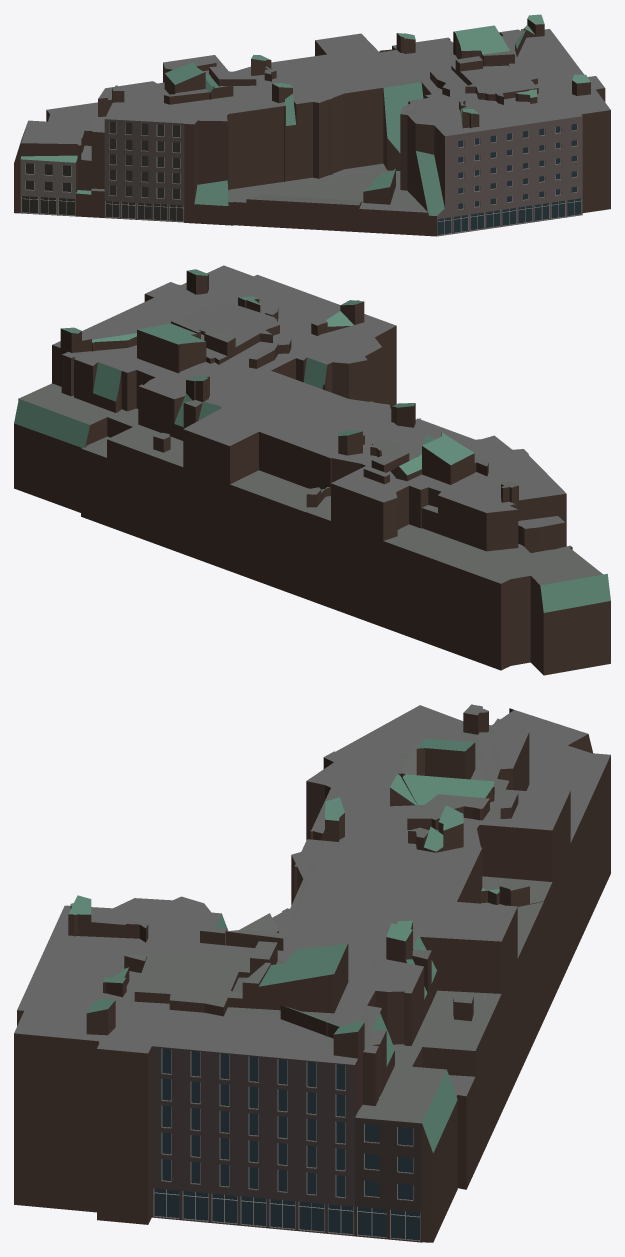
Rendered from recipe-large-weteringstraat-16-184747.glb.
3 views of the same model, one above another, from view 1: azimuth 30°, elevation 25°; view 2: azimuth 150°, elevation 25°; view 3: azimuth 270°, elevation 25° (orthographic). The views are drawn at different scales.
Visible parts, largest first — view 1: weteringstraat-16-184747; view 2: weteringstraat-16-184747; view 3: weteringstraat-16-184747.
Part boxes in pixels (<box>): weteringstraat-16-184747: <box>14,14,610,236</box>; weteringstraat-16-184747: <box>14,265,610,675</box>; weteringstraat-16-184747: <box>14,704,610,1242</box>.
Bounding box in the file's own units: 117 × 27.62 × 70.5.
